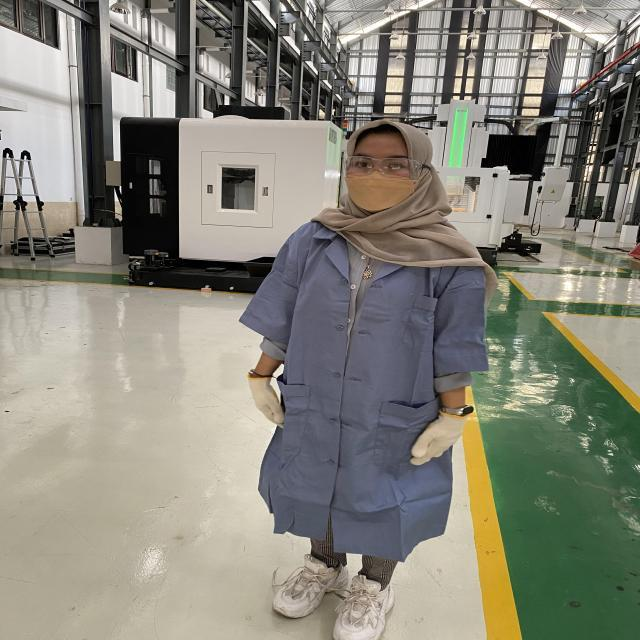boots: (264, 551, 354, 622), (329, 567, 397, 640)
gloves: (240, 369, 294, 434), (404, 412, 467, 467)
